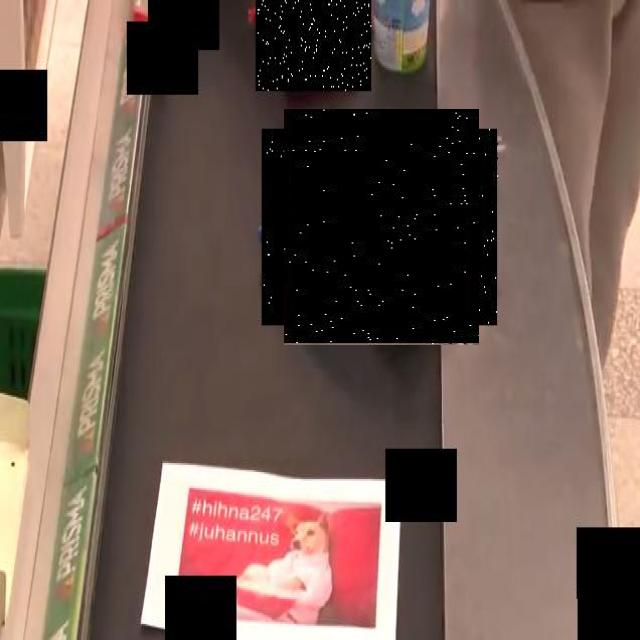food-box: (273, 119, 489, 335), (256, 0, 371, 91)
